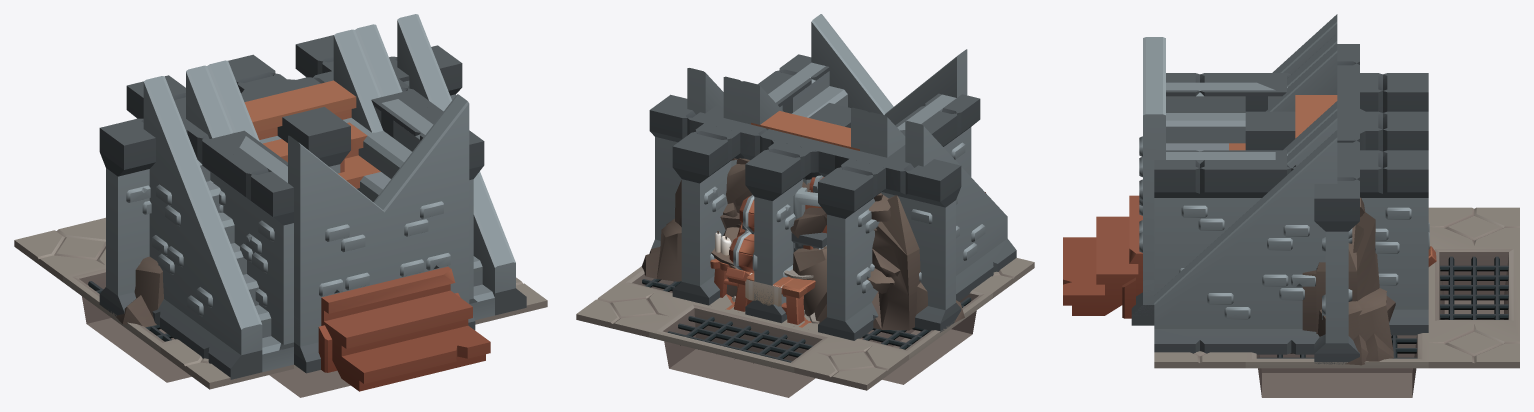
The model's file is dungeon.glb.
3 renders of one model, left to right at view 1: azimuth 30°, elevation 25°; view 2: azimuth 150°, elevation 25°; view 3: azimuth 270°, elevation 25°, orthographic. The views are drawn at different scales.
Visible parts, largest first — view 1: stairs_wide, stairs_wood, stairs_wall_left, stairs_wall_right, wall_doorway_Tsplit, floor_tile_extralarge_grates, stairs_walled, stairs_narrow, wall_doorway_sides, stairs, wall_crossing, rubble_large (+2 smaller); view 2: floor_tile_extralarge_grates, wall_doorway_sides, wall_doorway_Tsplit, rubble_large, stairs_wide, wall_crossing, stairs_wall_right, stairs_walled, rubble_half, stairs_wall_left, stairs, table_long_decorated_C (+9 smaller); view 3: floor_tile_extralarge_grates, stairs_wide, wall_doorway_sides, wall_doorway_Tsplit, stairs_walled, stairs_wood, stairs_wall_left, rubble_half, wall_crossing, stairs_wall_right, stairs_narrow, rubble_large (+1 smaller).
Boxes of the visible parts, left/top/right/bottom form: stairs_wide: left=143, top=14, right=526, bottom=379; stairs_wood: left=244, top=80, right=490, bottom=391; stairs_wall_left: left=232, top=77, right=475, bottom=373; stairs_wall_right: left=294, top=94, right=474, bottom=371; wall_doorway_Tsplit: left=99, top=45, right=462, bottom=316; floor_tile_extralarge_grates: left=14, top=217, right=547, bottom=397; stairs_walled: left=198, top=86, right=484, bottom=350; stairs_narrow: left=207, top=29, right=383, bottom=141; wall_doorway_sides: left=126, top=35, right=427, bottom=224; stairs: left=186, top=24, right=402, bottom=212; wall_crossing: left=228, top=54, right=350, bottom=149; rubble_large: left=116, top=256, right=163, bottom=327; floor_tile_extralarge_grates: left=576, top=258, right=1034, bottom=397; wall_doorway_sides: left=672, top=88, right=938, bottom=340; wall_doorway_Tsplit: left=649, top=86, right=961, bottom=332; rubble_large: left=649, top=181, right=964, bottom=330; stairs_wide: left=687, top=68, right=1016, bottom=301; wall_crossing: left=745, top=103, right=850, bottom=323; stairs_wall_right: left=768, top=14, right=893, bottom=117; stairs_walled: left=758, top=54, right=980, bottom=176; rubble_half: left=641, top=158, right=749, bottom=296; stairs_wall_left: left=758, top=49, right=967, bottom=134; stairs: left=723, top=76, right=905, bottom=157; table_long_decorated_C: left=729, top=195, right=807, bottom=324; floor_tile_extralarge_grates: left=1154, top=207, right=1519, bottom=397; stairs_wide: left=1154, top=14, right=1337, bottom=354; wall_doorway_sides: left=1245, top=73, right=1428, bottom=335; wall_doorway_Tsplit: left=1245, top=44, right=1359, bottom=364; stairs_walled: left=1154, top=73, right=1287, bottom=294; stairs_wood: left=1063, top=95, right=1337, bottom=318; stairs_wall_left: left=1131, top=37, right=1287, bottom=325; rubble_half: left=1316, top=197, right=1395, bottom=361; wall_crossing: left=1245, top=111, right=1428, bottom=151; stairs_wall_right: left=1131, top=114, right=1287, bottom=325; stairs_narrow: left=1266, top=43, right=1337, bottom=154; rubble_large: left=1302, top=224, right=1368, bottom=365.
Size of the model in its own units: 8.13 by 6.3 by 10.
Materials: 1 (1 with a texture image).
